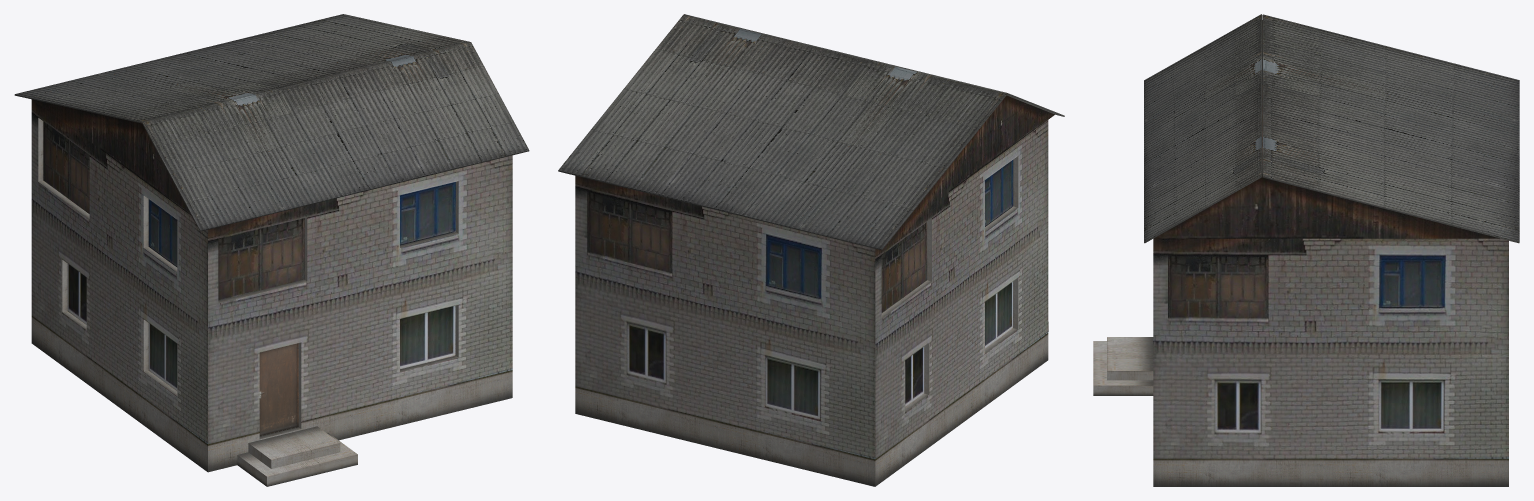
File: r402_ishim_domik13.FBX
The picture shows the model from 3 angles, left to right: view 1: azimuth 30°, elevation 25°; view 2: azimuth 150°, elevation 25°; view 3: azimuth 270°, elevation 25°; orthographic projection. The views are drawn at different scales.
Parts seen in each view (by area): view 1: r402_ishim_domik13; view 2: r402_ishim_domik13; view 3: r402_ishim_domik13.
Boxes of the visible parts, <box> form: r402_ishim_domik13: <box>14,14,529,486</box>; r402_ishim_domik13: <box>558,14,1064,486</box>; r402_ishim_domik13: <box>1093,14,1519,486</box>.
Bounding box in the file's own units: 834 × 927 × 760.
